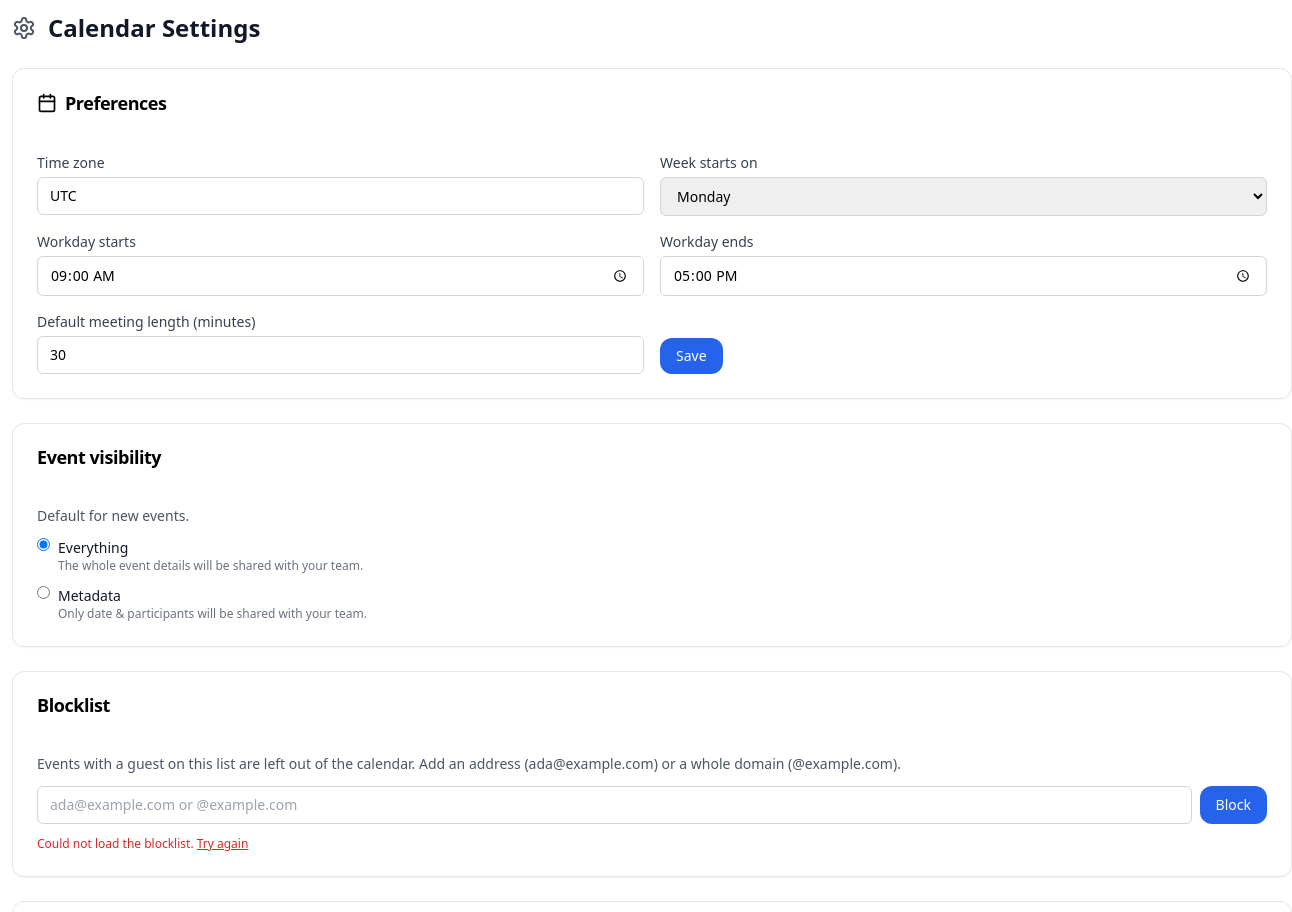
Test: CalendarSettings: blocklist › says so when the list cannot be loaded (not "Nothing is blocked") and offers a retry
The width and height of the screenshot is (1292, 912).
Expected: the text "Could not load the blocklist. Try again" is shown, [37,835,248,852]
Step 1. Click the button "Try again" → coordinates (222, 844), box [197,836,248,852]
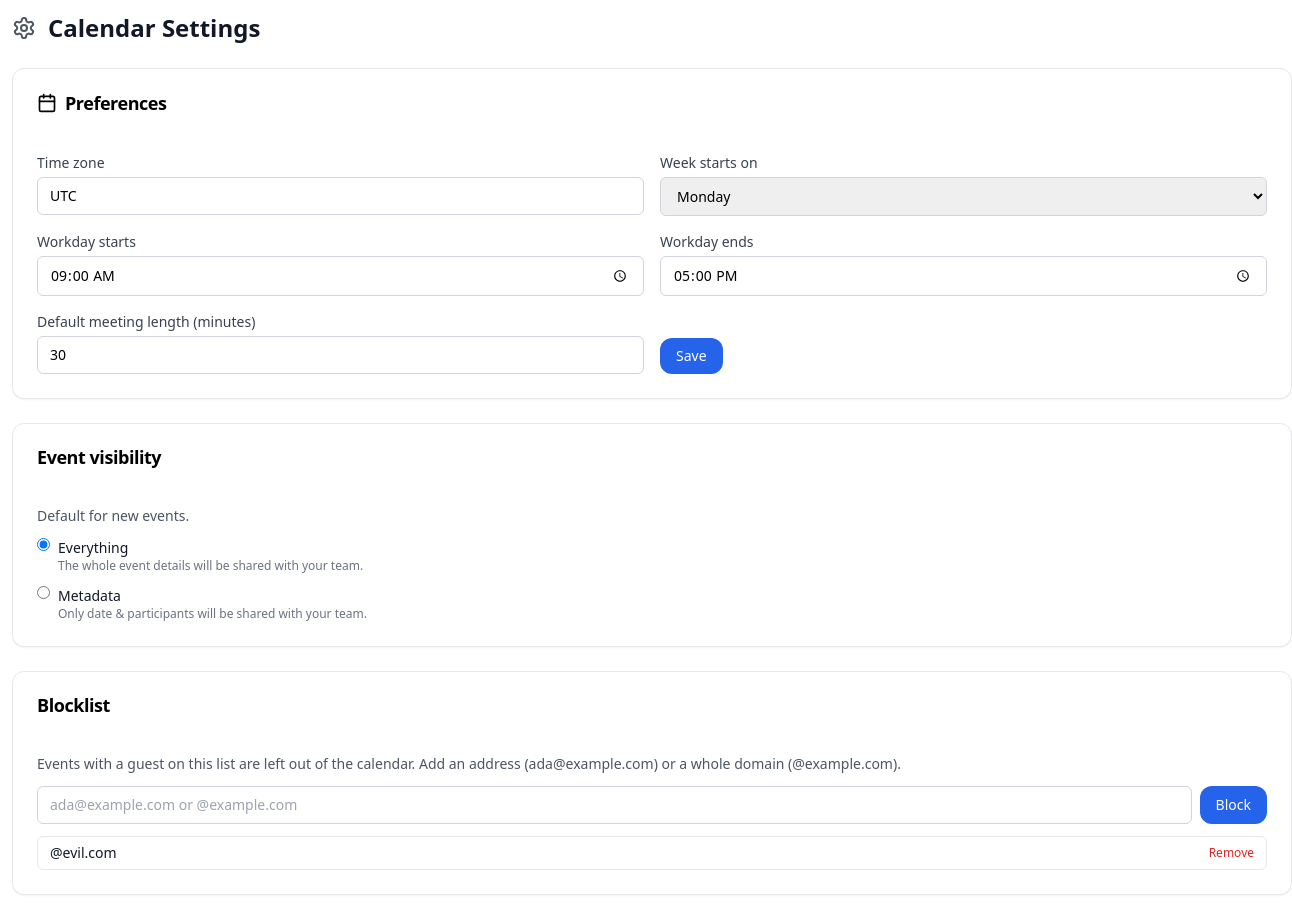
Now the text "@evil.com" is shown, box [50,843,117,863]
